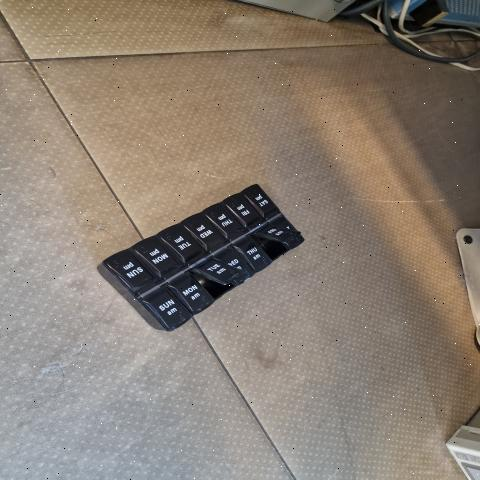Open: (192, 272, 235, 299), (255, 235, 288, 261)
